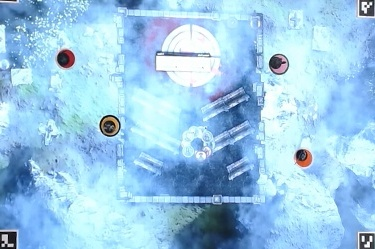orange: (293, 148, 316, 171)
pink_green: (266, 54, 289, 77)
red: (54, 48, 77, 71)
yellow_night_blue: (97, 114, 121, 137)
